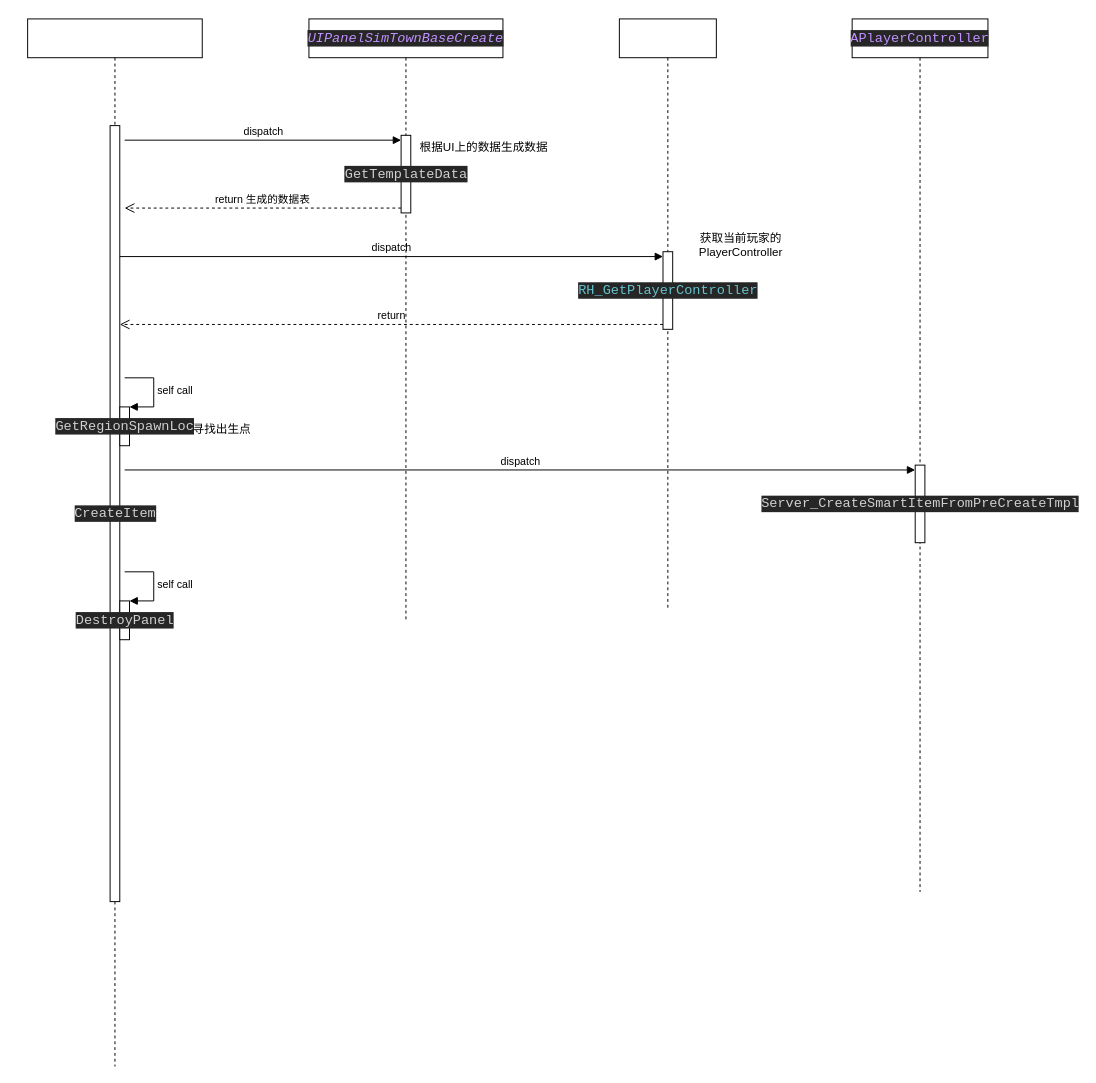
Image size: 1096x1083. Some labels were removed from this diagram. Here are the shapes that lost their labels. From the top down, the box of each, then its label:
(618, 18, 716, 611): GlobalDef
(27, 18, 202, 1067): UIPanelSimTownItemCreate
